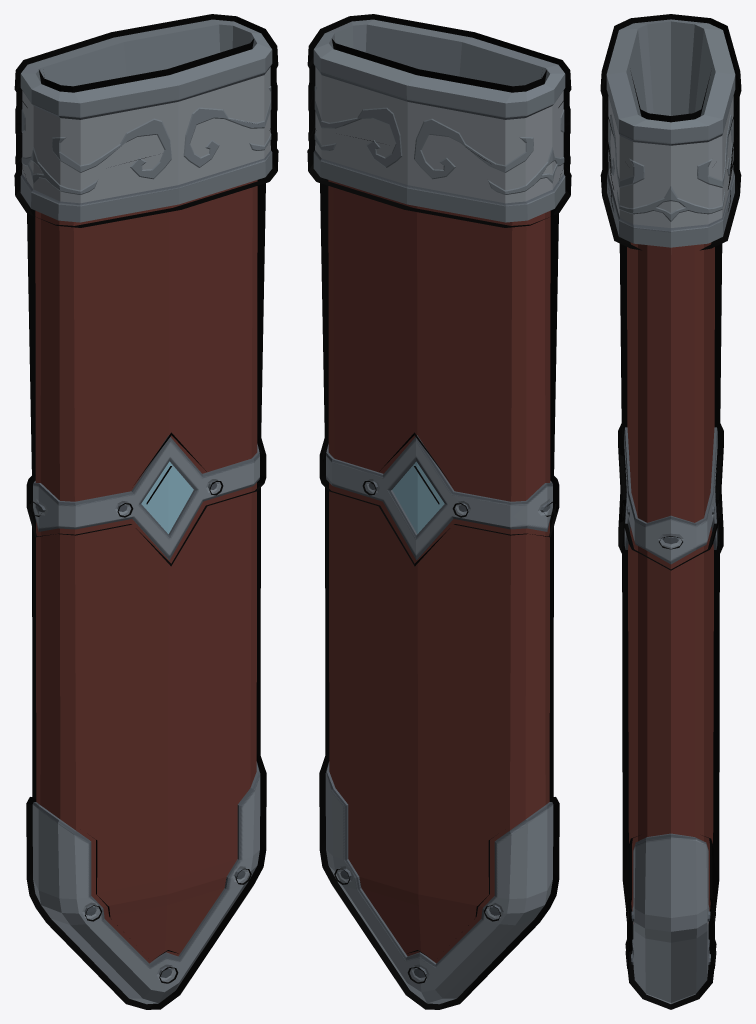
Rendered from sheath.fbx.
3 views of the same model, side by side, from view 1: azimuth 30°, elevation 25°; view 2: azimuth 150°, elevation 25°; view 3: azimuth 270°, elevation 25° (orthographic).
Parts seen in each view (by area): view 1: Sheath, Sheath_outline; view 2: Sheath, Sheath_outline; view 3: Sheath, Sheath_outline.
Boxes of the visible parts, x1,y1,x2,y2 form: Sheath: (20,19,272,1004); Sheath_outline: (14,14,278,1009); Sheath: (313,19,565,1004); Sheath_outline: (307,14,571,1009); Sheath: (606,19,735,1003); Sheath_outline: (600,14,741,1009).
Bounding box in the file's own units: 216 × 818 × 111.
